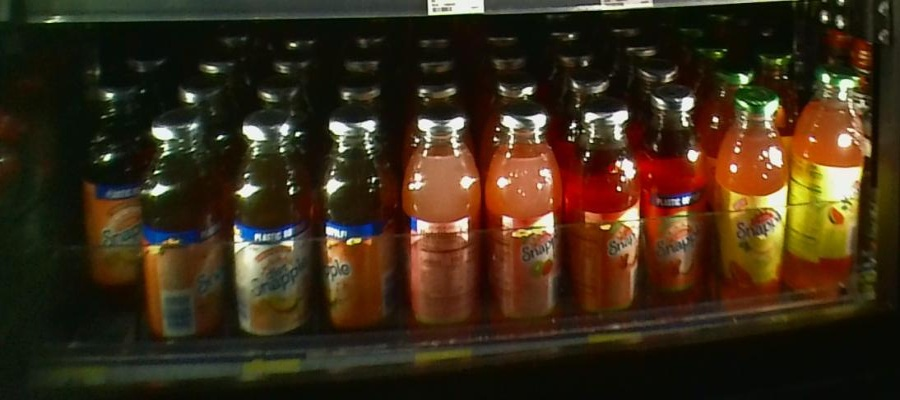bottle: (225, 99, 312, 355), (401, 105, 484, 345), (317, 104, 397, 343), (146, 115, 225, 355), (484, 105, 562, 340), (564, 95, 641, 329), (714, 70, 792, 298), (796, 61, 865, 299), (643, 76, 712, 311), (81, 77, 145, 294)
